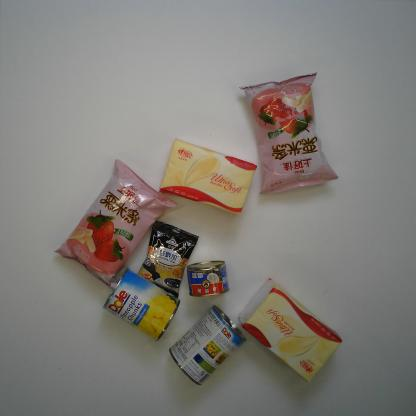Canned Food: (168, 304, 247, 387), (102, 266, 181, 343), (184, 260, 230, 298)
Instant Drink: (136, 219, 200, 299)
Puffed Food: (53, 158, 178, 292), (238, 71, 340, 196)
Tissue: (236, 276, 343, 383), (158, 137, 258, 216)
